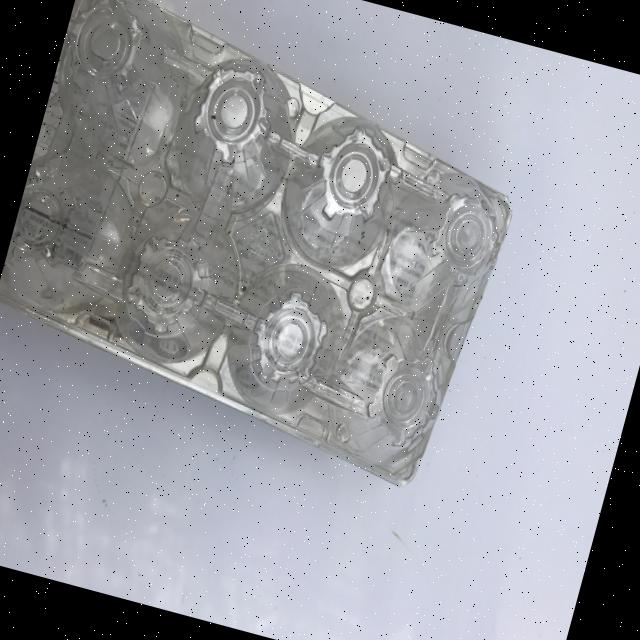plastic: (0, 0, 544, 497)
